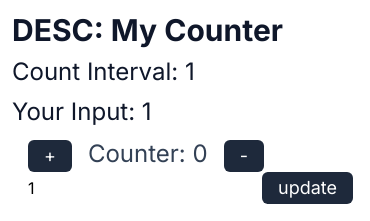
Test: tests to see if increment and decrement buttons are correcting updating count with correct defaultCountInterval › tests to see if decrement button is correcting incrementing count with correct defaultCountInterval › when clicked, correctly decrements count by 1 when defaultCountInterval is 1
Click the button named "decrement" at (244, 156), box [224,140,264,172]
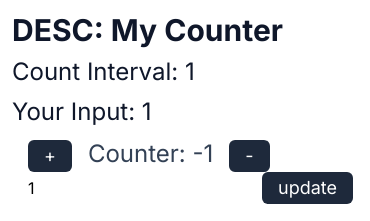
Now the text "Counter: -1" is shown, box [88,139,213,168]
